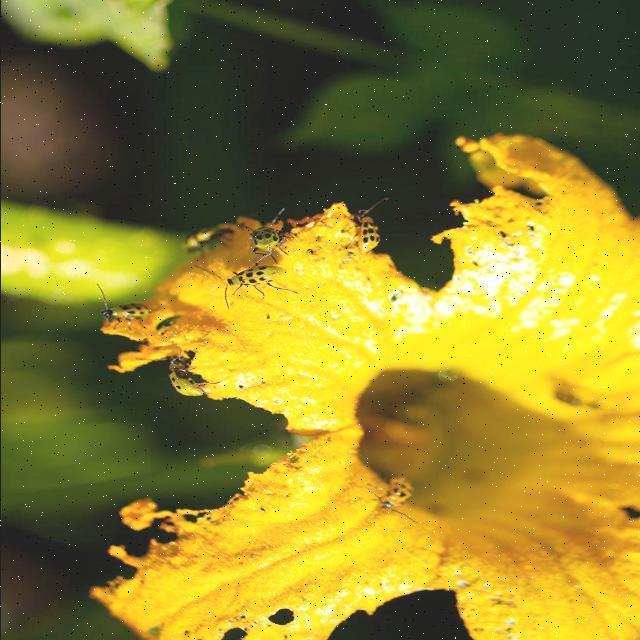gusano_verde: (147, 353, 215, 405), (204, 259, 288, 301), (342, 200, 388, 264), (364, 472, 418, 525), (175, 223, 237, 259), (240, 218, 294, 258), (94, 299, 154, 325)
